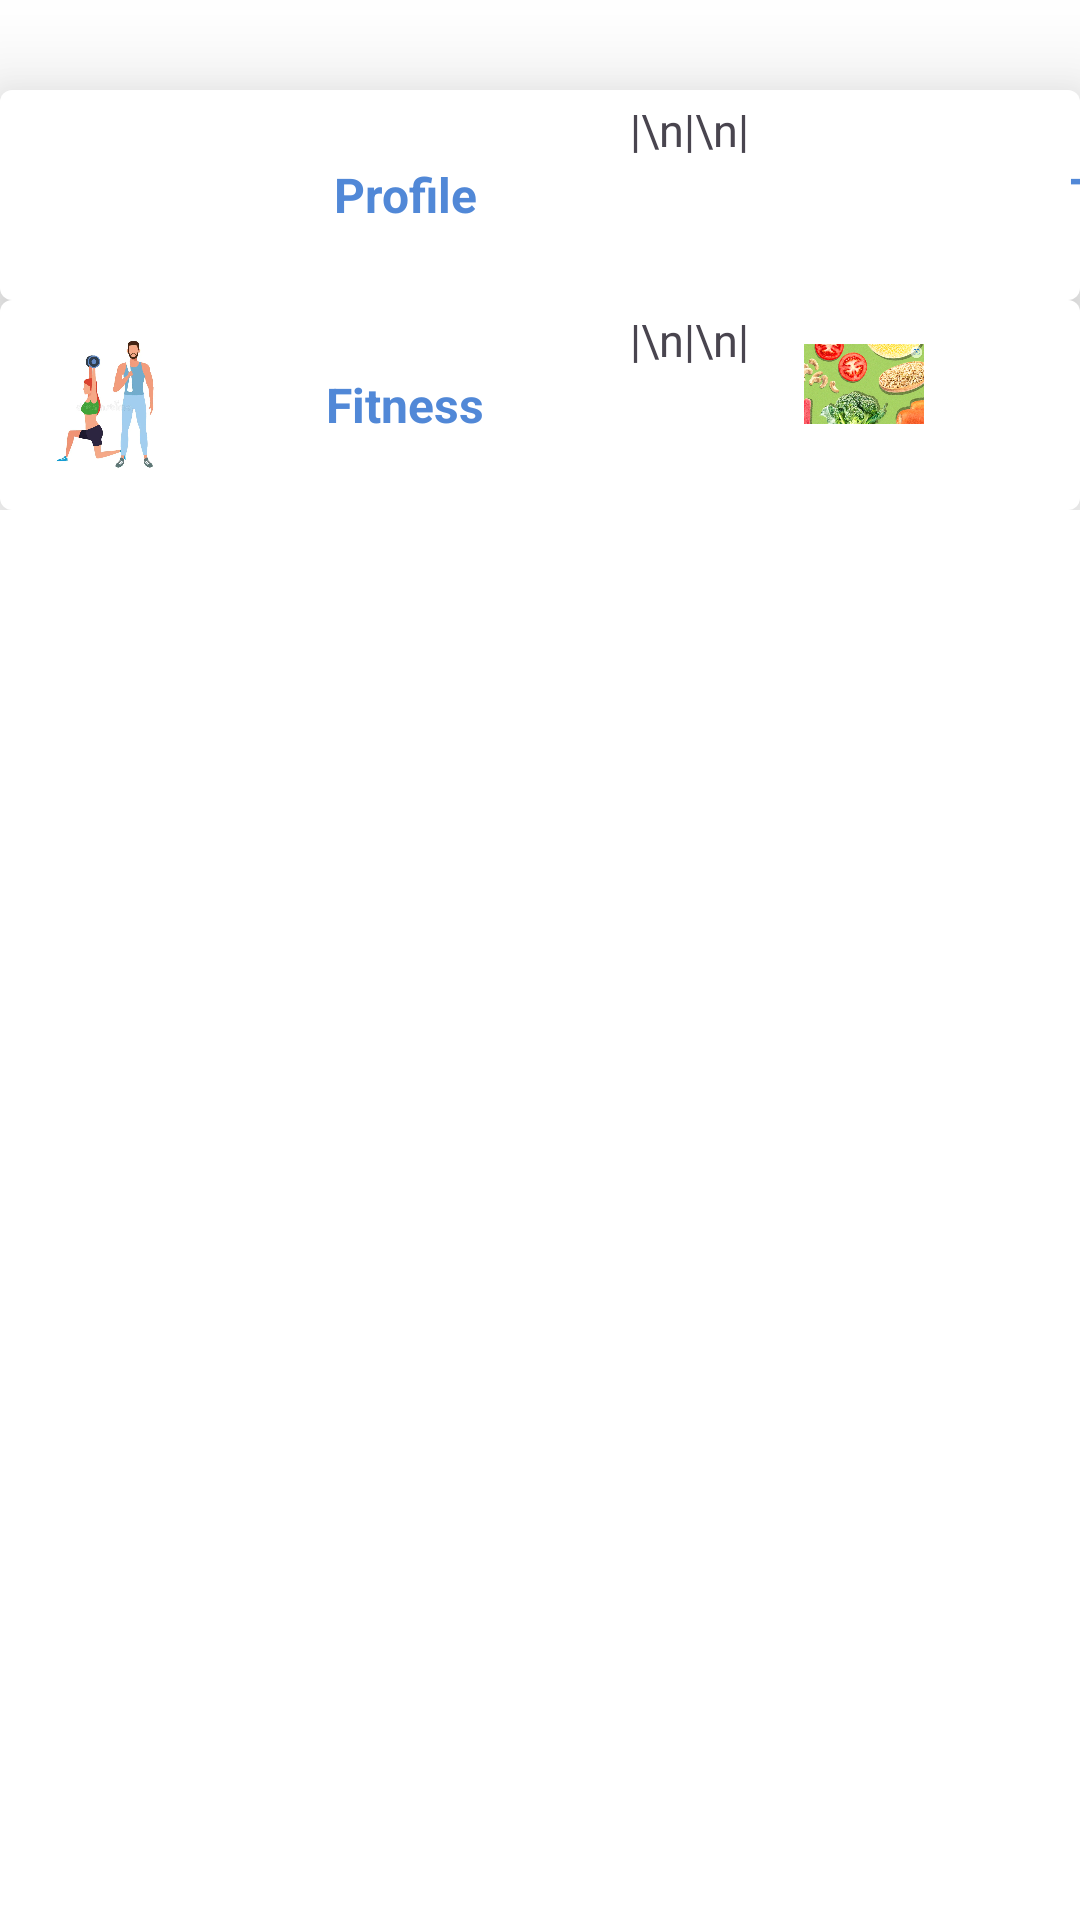

Locate icon controls on the screen. Image size 1080x1920, boxes as (x1, y1, x2, y2).
food: (804, 344, 924, 424)
